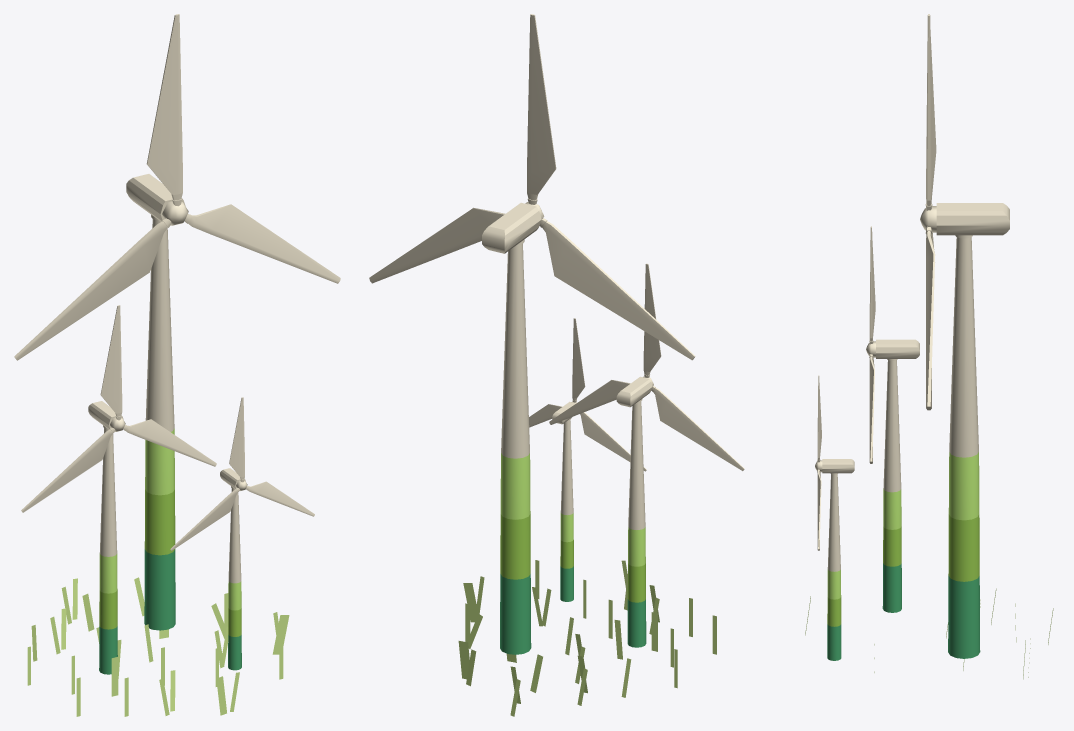
The model's file is M_Windmill_Var2_6.fbx.
The picture shows the model from 3 angles, left to right: view 1: azimuth 30°, elevation 25°; view 2: azimuth 150°, elevation 25°; view 3: azimuth 270°, elevation 25°; orthographic projection. The views are drawn at different scales.
Parts seen in each view (by area): view 1: M_Windmill_Var2_6; view 2: M_Windmill_Var2_6; view 3: M_Windmill_Var2_6.
Part boxes in pixels (bbox=[...]): M_Windmill_Var2_6: bbox=[14, 14, 340, 716]; M_Windmill_Var2_6: bbox=[369, 14, 744, 716]; M_Windmill_Var2_6: bbox=[805, 14, 1053, 679].
Size of the model in its own units: 2.12 by 3.77 by 1.48.
